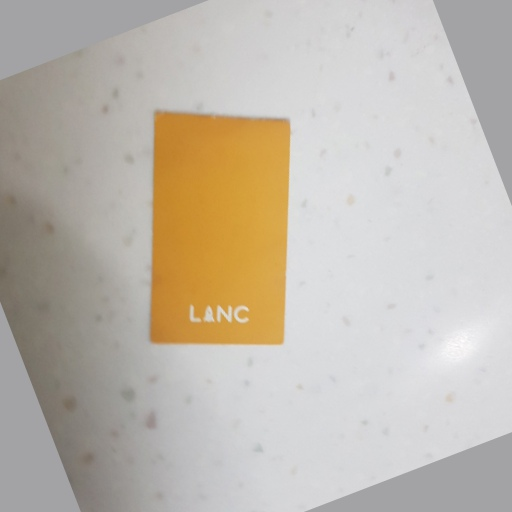Paper_2: (144, 108, 292, 364)
